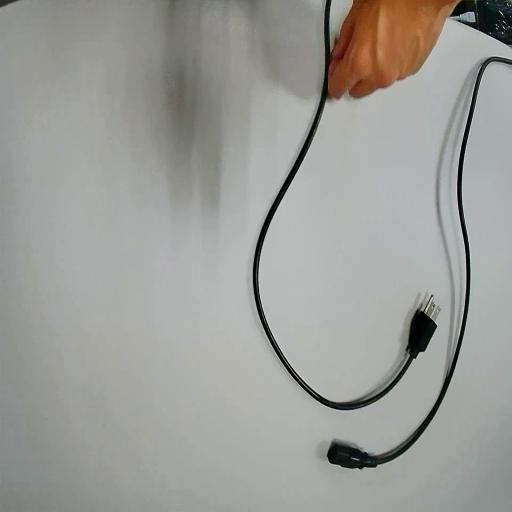wire: (254, 0, 435, 408), (328, 59, 490, 467)
